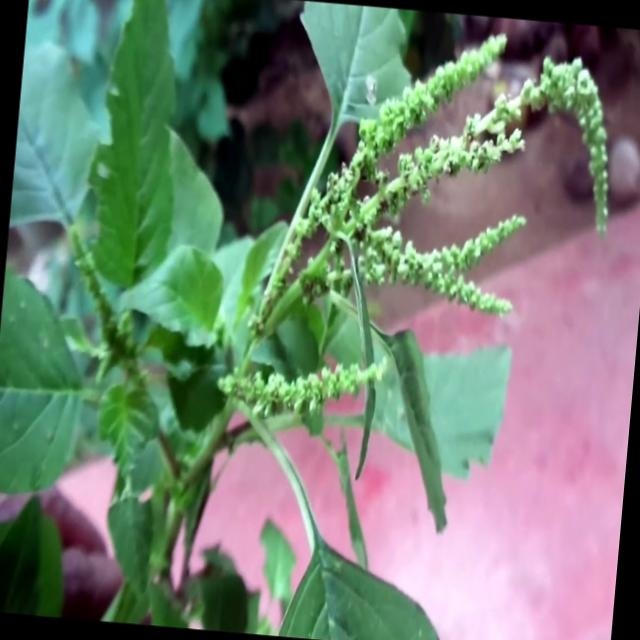Medicinal-Arive Dantu: (0, 0, 627, 540)
